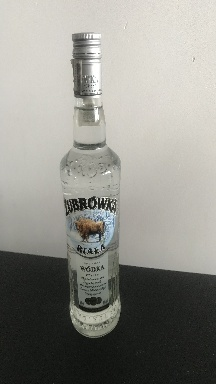butelka: (58, 28, 122, 341)
